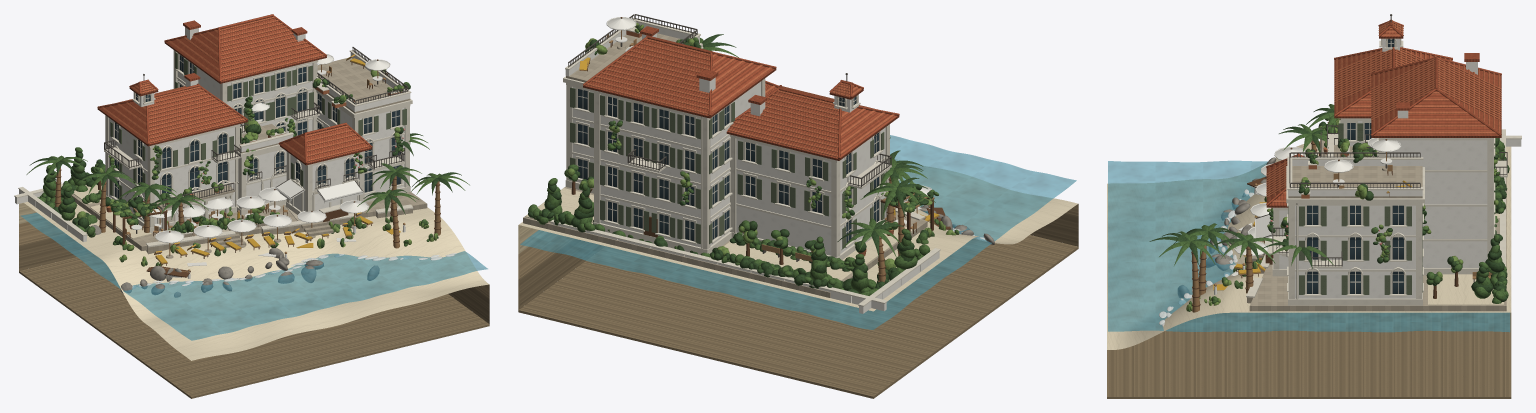
Rendered from fourseasons.glb.
The picture shows the model from 3 angles, left to right: view 1: azimuth 30°, elevation 25°; view 2: azimuth 150°, elevation 25°; view 3: azimuth 270°, elevation 25°; orthographic projection. The views are drawn at different scales.
Parts seen in each view (by area): view 1: terrain_surface, earth_underside, sea_surface, main_roof_tiles, west_wing_roof_tiles, west_wing_walls, earth_bedrock_band, roof_deck, terrace_paving, main_block_walls, east_wing_walls, cafe_roof_tiles (+5 smaller); view 2: earth_underside, sea_surface, terrain_surface, west_wing_walls, main_block_walls, main_roof_tiles, west_wing_roof_tiles, earth_bedrock_band, terrace_paving, gravel_court (×3), main_block_quoin (×2), earth_subsoil_band (+5 smaller); view 3: earth_underside, sea_surface, terrain_surface, main_block_walls, east_wing_walls, main_roof_tiles, terrace_paving, roof_deck, gravel_court, west_wing_roof_tiles, parapet_wall (×2), east_wing_quoin (×2) (+5 smaller).
Boxes of the visible parts, bbox=[...] form: terrain_surface: bbox=[24, 201, 489, 360]; earth_underside: bbox=[19, 253, 489, 398]; sea_surface: bbox=[21, 212, 487, 340]; main_roof_tiles: bbox=[166, 18, 325, 81]; west_wing_roof_tiles: bbox=[99, 88, 245, 144]; west_wing_walls: bbox=[109, 118, 234, 223]; earth_bedrock_band: bbox=[19, 234, 489, 323]; roof_deck: bbox=[317, 57, 410, 113]; terrace_paving: bbox=[71, 191, 427, 250]; main_block_walls: bbox=[177, 53, 312, 133]; east_wing_walls: bbox=[317, 97, 404, 196]; cafe_roof_tiles: bbox=[280, 125, 370, 163]; earth_underside: bbox=[518, 235, 1078, 398]; sea_surface: bbox=[520, 135, 1076, 329]; terrain_surface: bbox=[519, 159, 1077, 311]; west_wing_walls: bbox=[736, 127, 885, 255]; main_block_walls: bbox=[600, 81, 760, 247]; main_roof_tiles: bbox=[585, 40, 774, 115]; west_wing_roof_tiles: bbox=[727, 92, 897, 158]; earth_bedrock_band: bbox=[518, 213, 1078, 309]; terrace_paving: bbox=[523, 187, 927, 297]; gravel_court (×3): bbox=[525, 188, 914, 280]; main_block_quoin (×2): bbox=[594, 92, 709, 249]; earth_subsoil_band: bbox=[518, 204, 1078, 279]; earth_underside: bbox=[1107, 312, 1511, 398]; sea_surface: bbox=[1108, 160, 1510, 332]; terrain_surface: bbox=[1107, 142, 1511, 349]; main_block_walls: bbox=[1385, 140, 1487, 267]; east_wing_walls: bbox=[1295, 205, 1415, 298]; main_roof_tiles: bbox=[1371, 61, 1500, 135]; terrace_paving: bbox=[1249, 177, 1506, 311]; roof_deck: bbox=[1288, 166, 1422, 198]; gravel_court: bbox=[1428, 274, 1503, 305]; west_wing_roof_tiles: bbox=[1335, 50, 1452, 116]; parapet_wall (×2): bbox=[1288, 160, 1422, 196]; east_wing_quoin (×2): bbox=[1288, 205, 1422, 298].
Size of the model in its own units: 37.22 by 24.8 by 34.9.
Materials: 27 (26 with a texture image).
